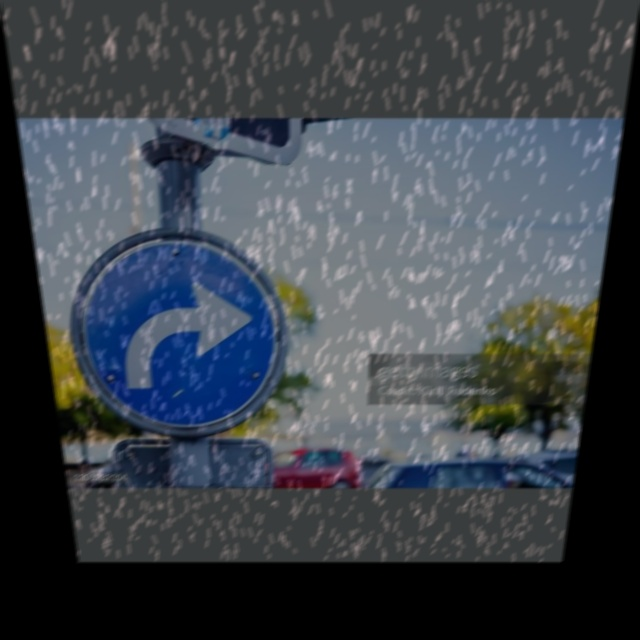Compulsory_Turn_Right_Ahead: (66, 230, 282, 431)
